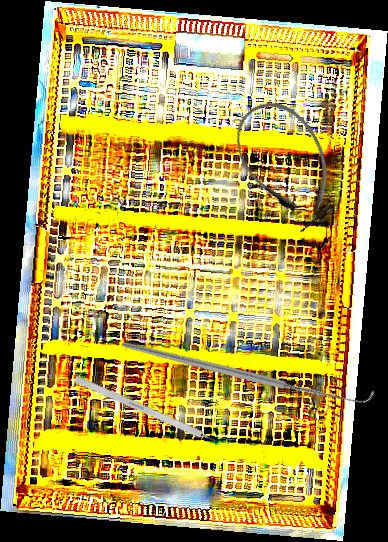Cannula: (221, 87, 354, 242)
Hook Surgical: (117, 240, 378, 499), (73, 374, 232, 452)
